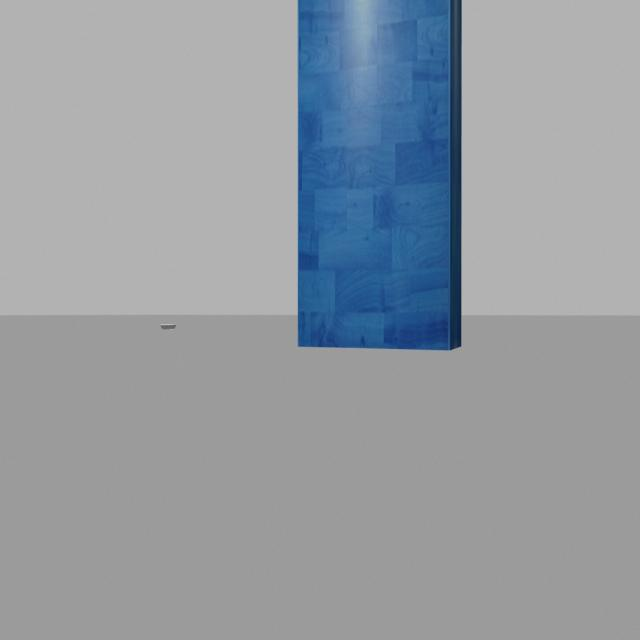bowl: (153, 314, 184, 338)
shelf: (288, 0, 470, 365)
